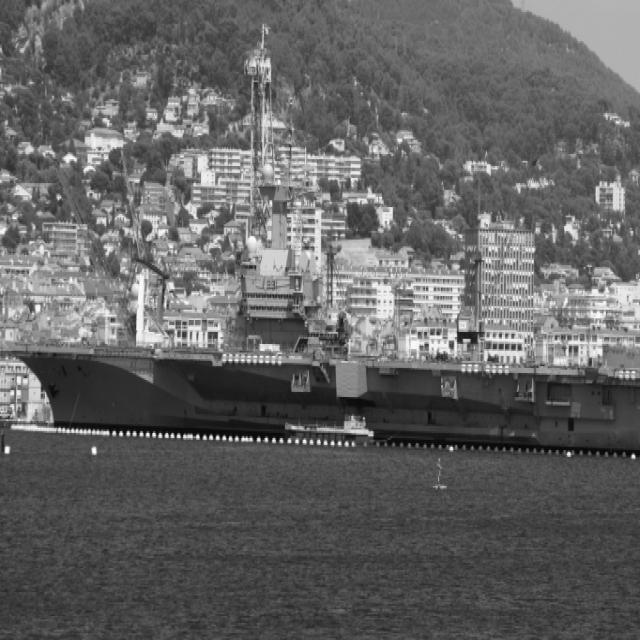Portanaves: (10, 260, 640, 443)
